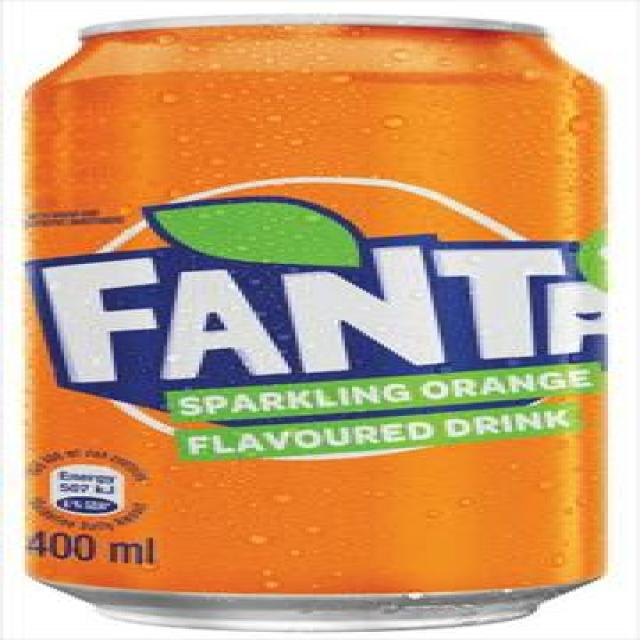fanta: (17, 14, 604, 629)
